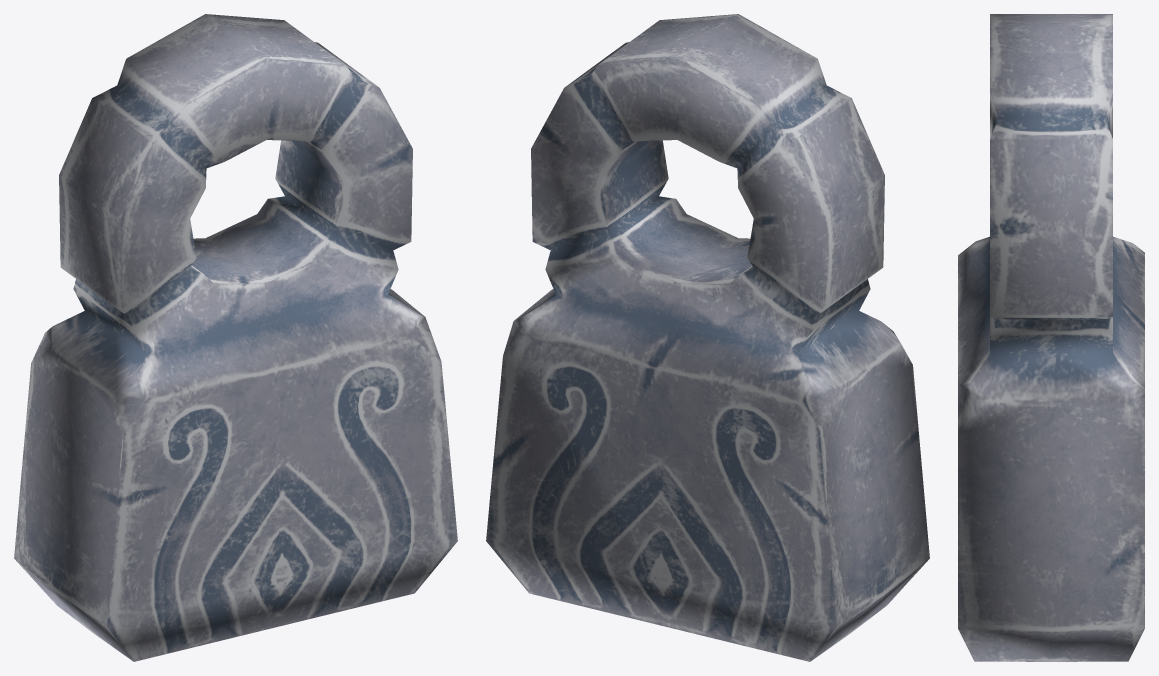
The model's file is Asset_Statue_A_01.fbx.
3 views of the same model, side by side, from view 1: azimuth 30°, elevation 25°; view 2: azimuth 150°, elevation 25°; view 3: azimuth 270°, elevation 25° (orthographic).
Parts seen in each view (by area): view 1: Asset_Statue_A_01; view 2: Asset_Statue_A_01; view 3: Asset_Statue_A_01.
Part boxes in pixels (x1,y1,x2,y2): Asset_Statue_A_01: [14, 14, 457, 661]; Asset_Statue_A_01: [486, 14, 929, 661]; Asset_Statue_A_01: [958, 14, 1144, 661].
Size of the model in its own units: 1026 by 1559 by 467.
